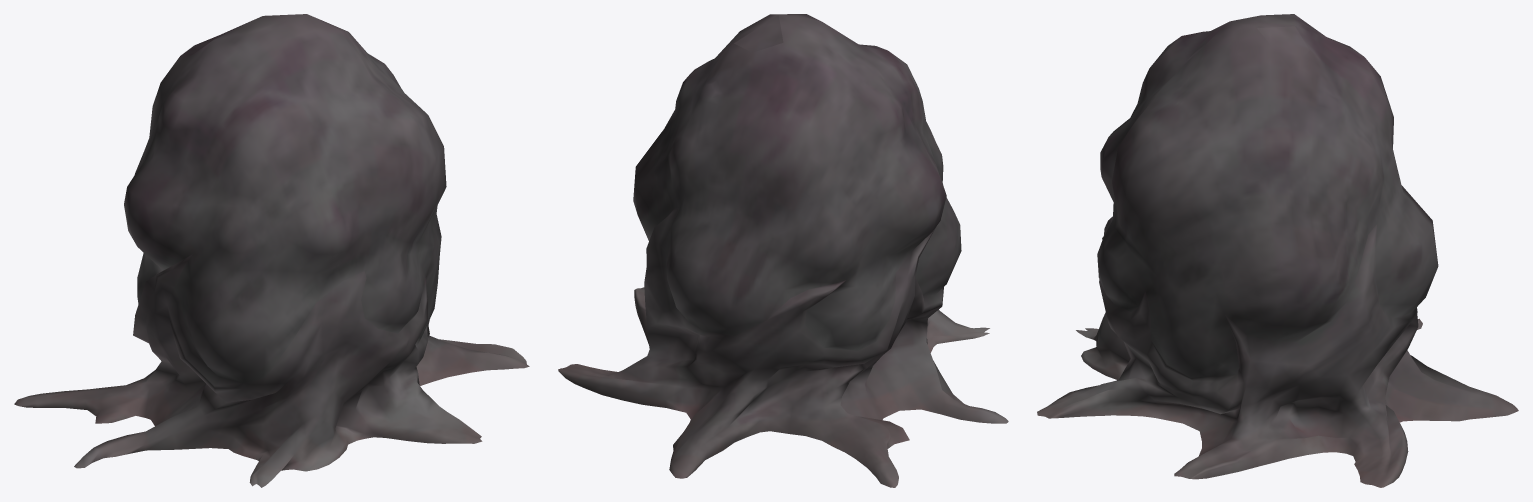
The model's file is Cocoon (17).fbx.
3 renders of one model, left to right at view 1: azimuth 30°, elevation 25°; view 2: azimuth 150°, elevation 25°; view 3: azimuth 270°, elevation 25°, orthographic. The views are drawn at different scales.
Parts seen in each view (by area): view 1: Egg; view 2: Egg; view 3: Egg.
Boxes of the visible parts, x1,y1,x2,y2 form: Egg: (14, 14, 529, 487); Egg: (558, 14, 1008, 487); Egg: (1037, 14, 1518, 487).
Bounding box in the file's own units: 1.08 × 0.9722 × 1.08.
1 material, 1 textured.
